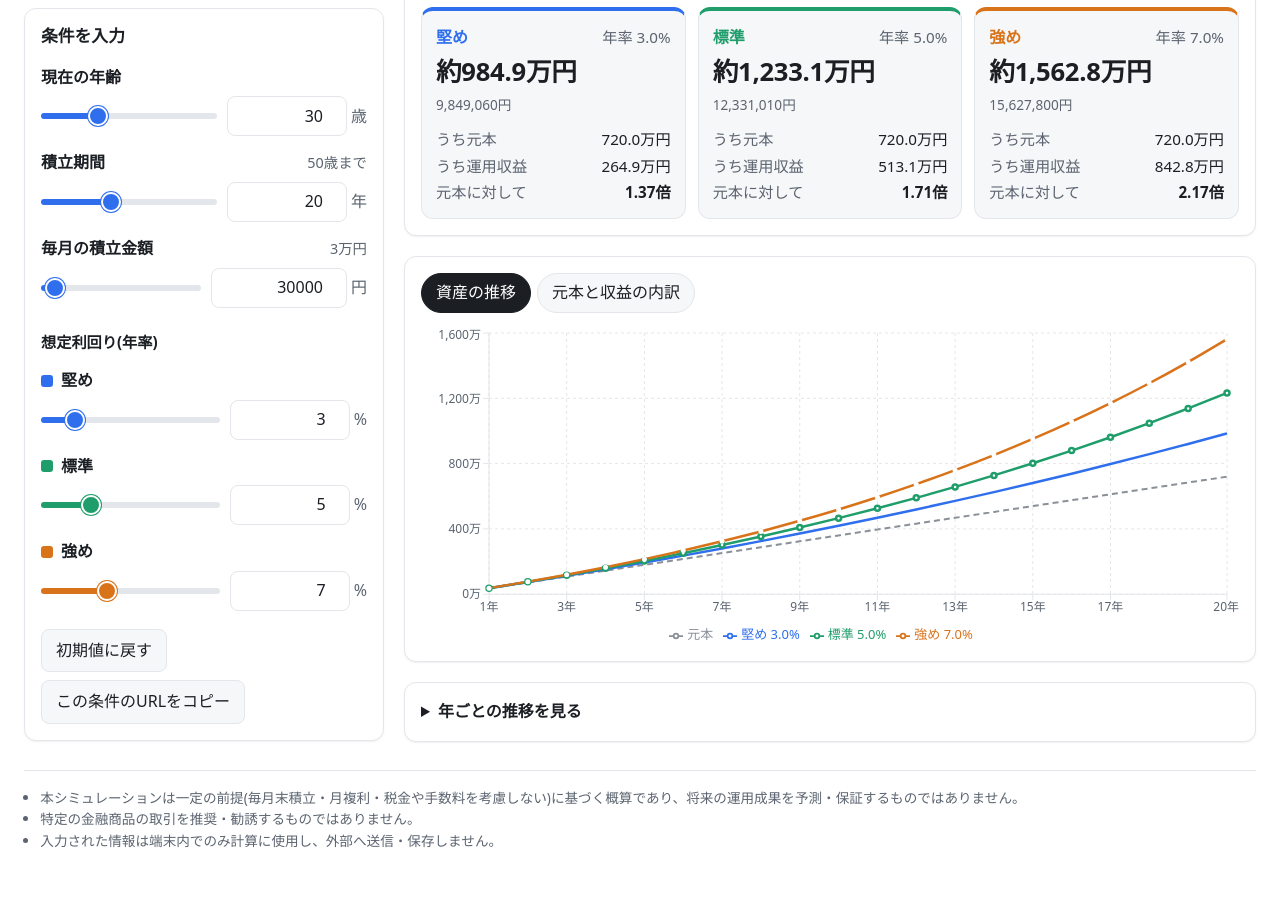
App (受け入れ基準 要件 §8) › §8-3: 年齢85・期間20で警告が出る
(page scrolled)
Replace the text in the number field labelled "現在の年齢" with "85": (287, 117) [227,97,347,137]
Then press Enter
(page scrolled)
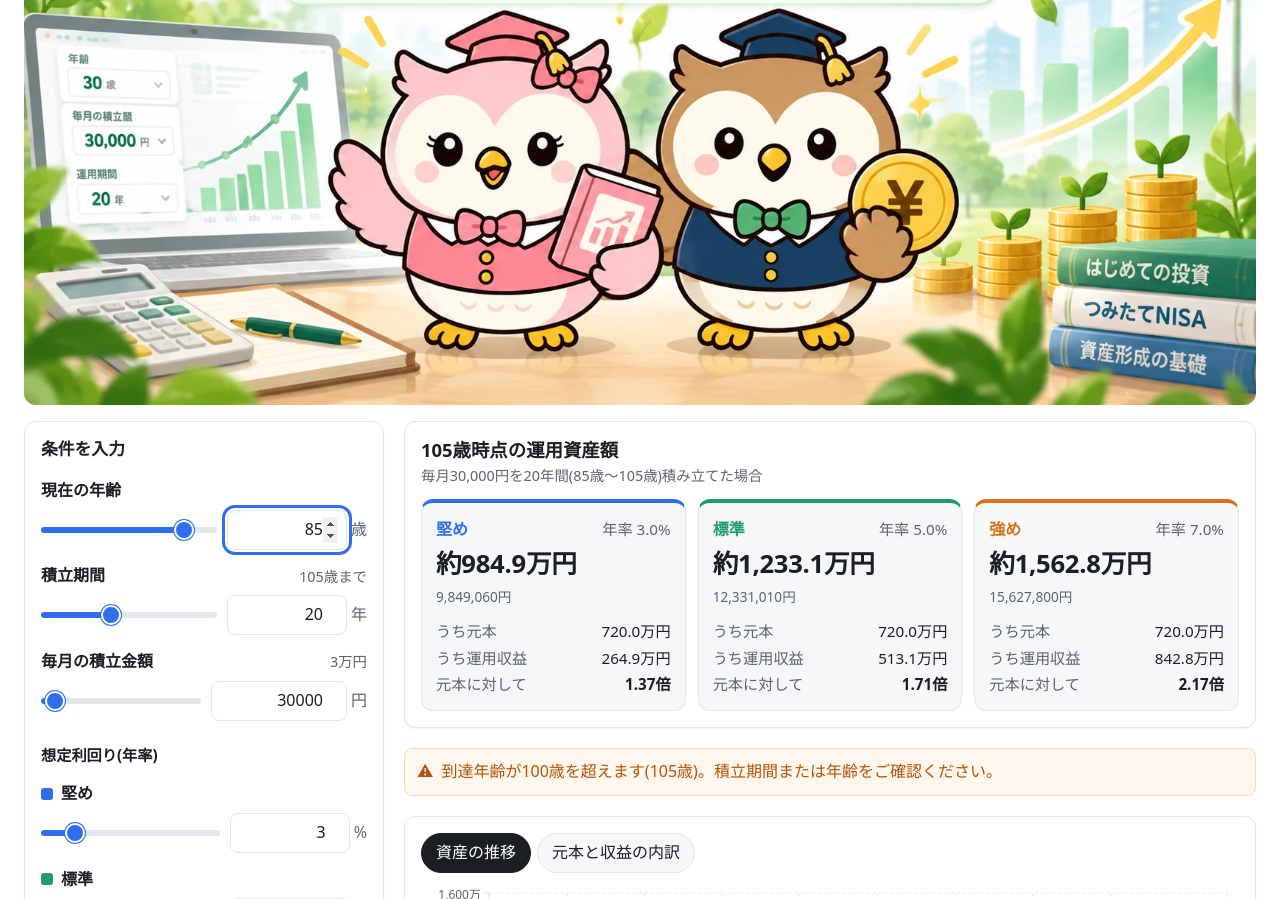
Check: the message shows "到達年齢が100歳を超えます(105歳)", box [441,760,1002,782]
Check: the heading "105歳時点の運用資産額" is shown, box [421,437,618,462]
